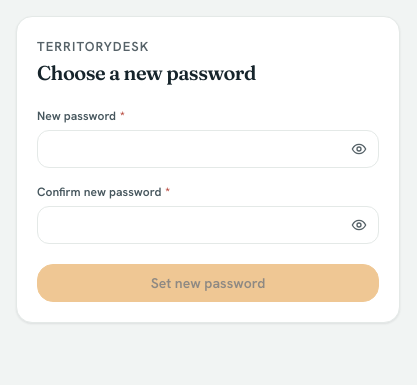
Test: N3C-15/C-70: reset confirm-password validates on blur + submit › N3C-15/C-70: submitting a mismatch is blocked and surfaces the reason
In the password field labelled "New password": (208, 149) [37,130,379,168], type "correct-horse-battery"
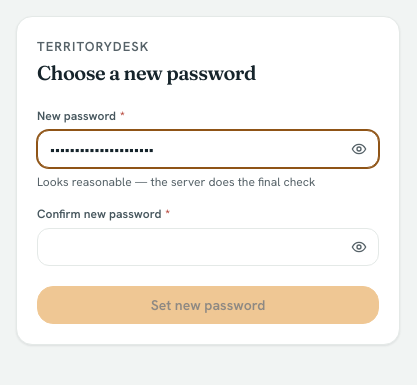
In the password field labelled "Confirm new password": (208, 247) [37,228,379,266], type "correct-horse"
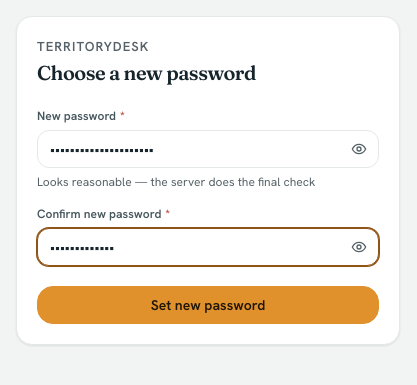
Click the button "Set new password": click(208, 305) [37,286,379,324]
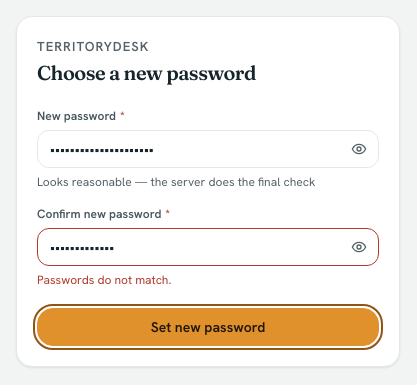
Result: the text "Passwords do not match." is shown at [37,272,171,288]
